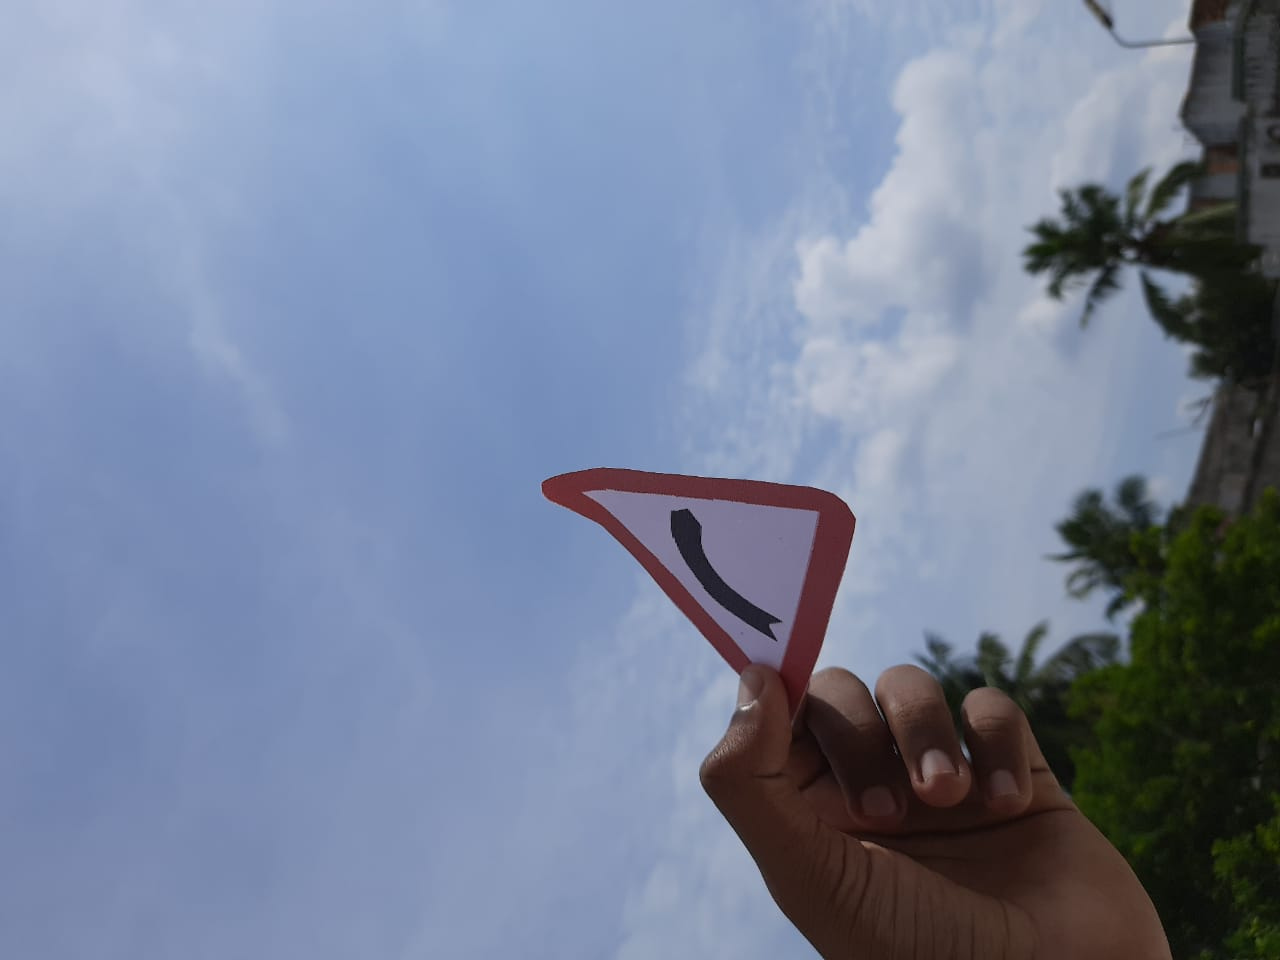RIGHT CURVE: (538, 422, 866, 737)
